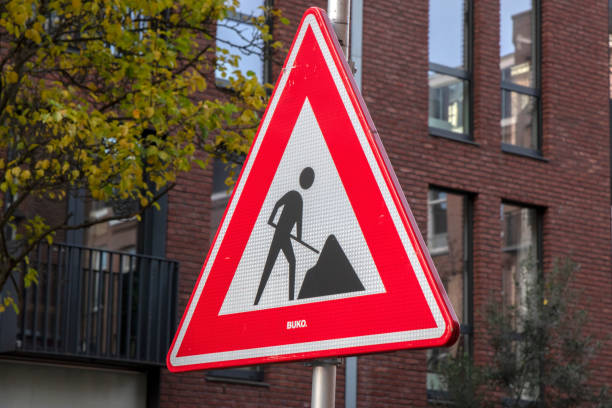yol_calismasi_levha: (161, 1, 455, 376)
